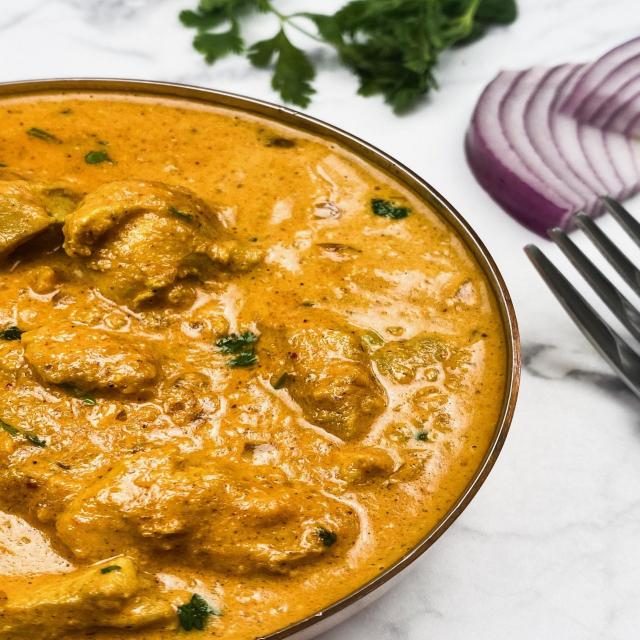chicken: (19, 75, 468, 607)
